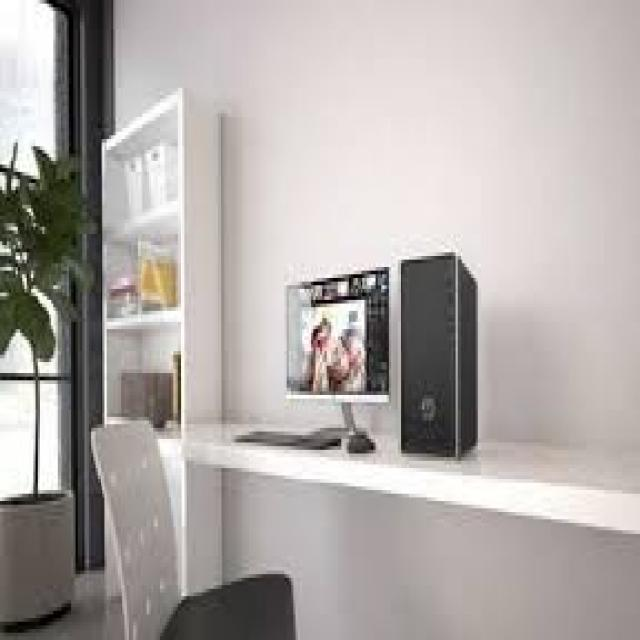Chair: (82, 403, 299, 640)
Computer: (397, 250, 487, 462)
Monitor: (279, 266, 393, 411)
Shelf: (101, 81, 233, 426)
